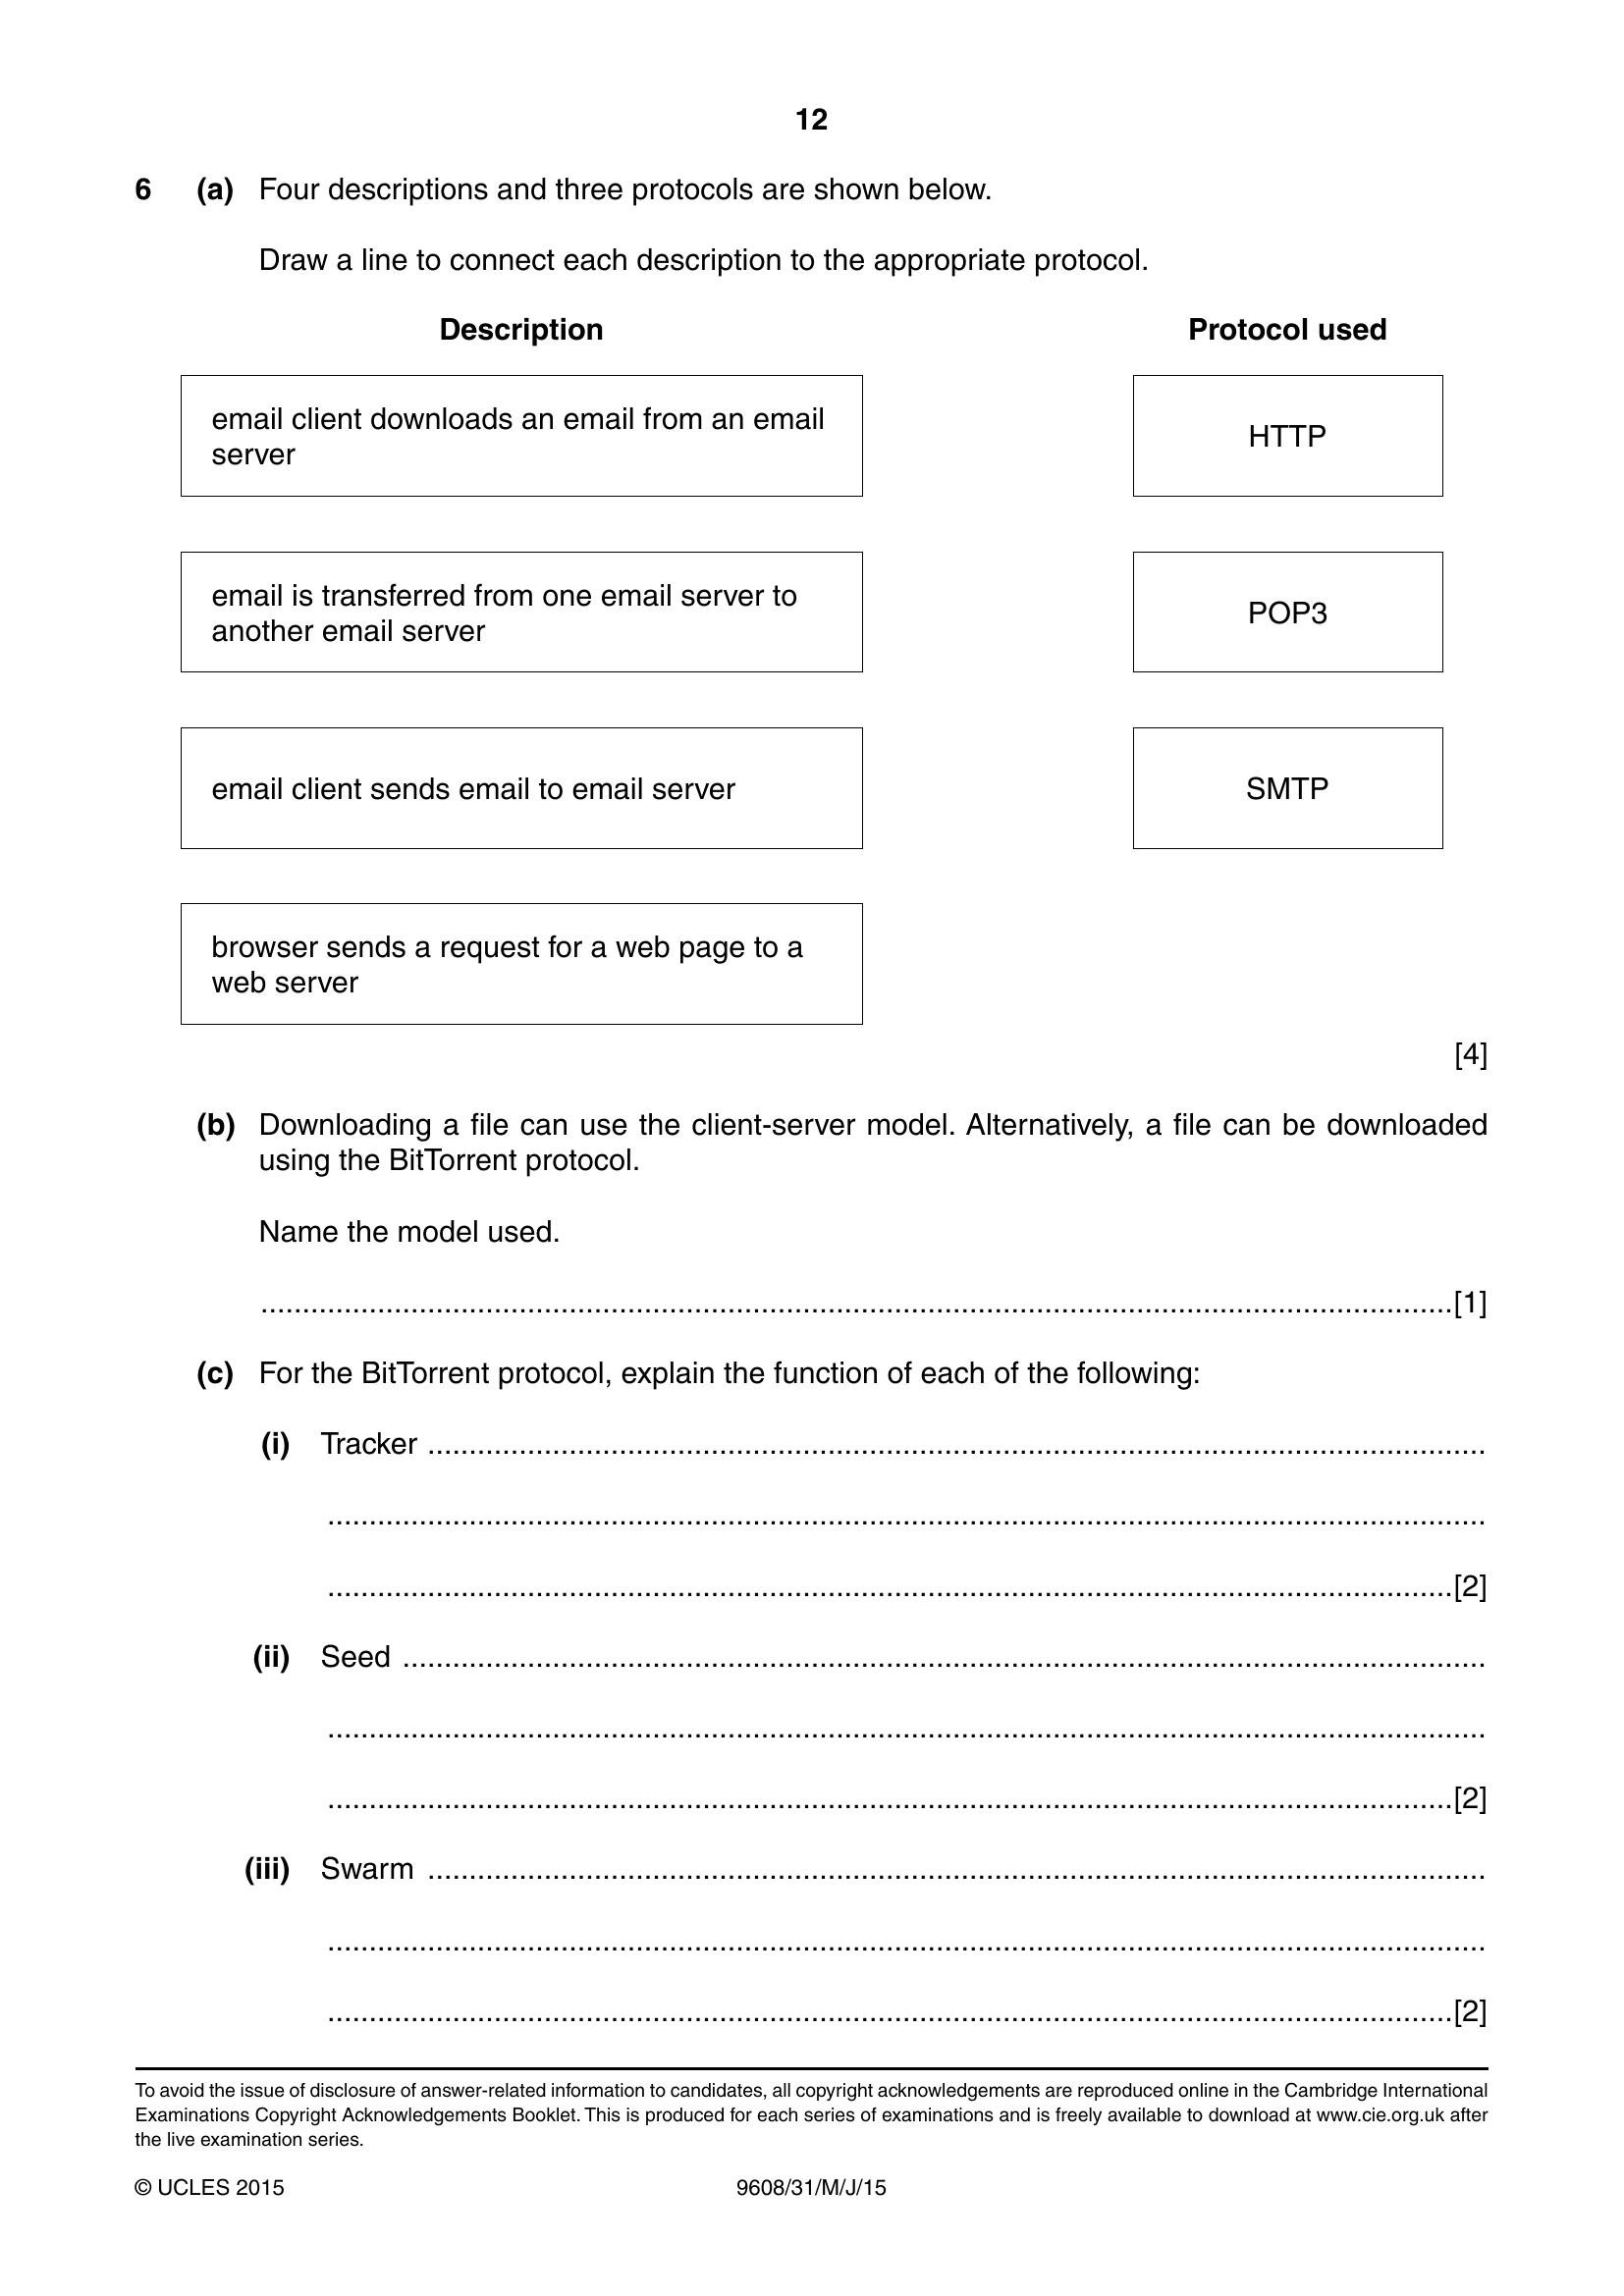question: (5, 163, 1624, 2050)
